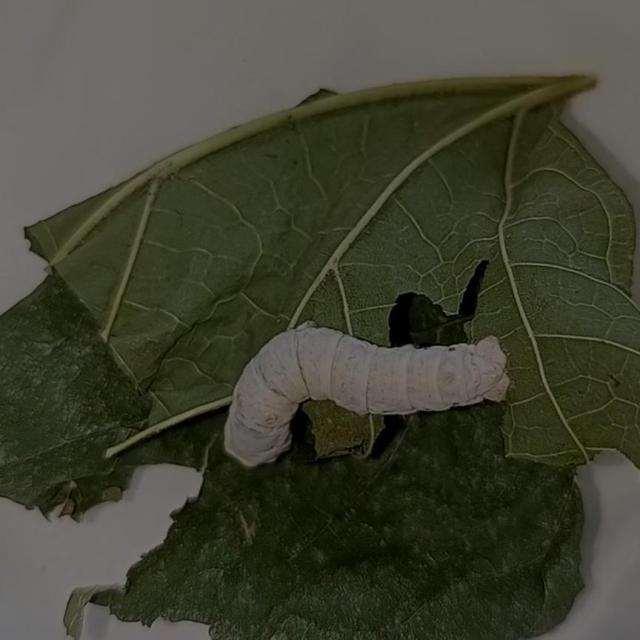Healthy: (212, 312, 518, 484)
